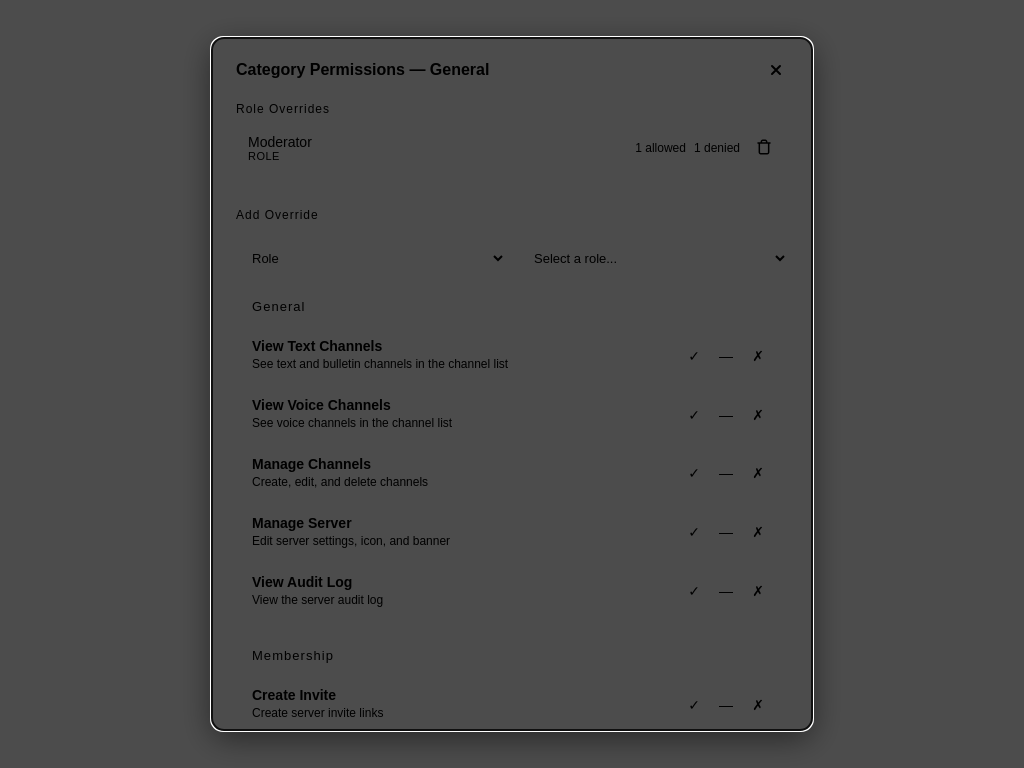
Test case: override upsert step-up through the category editor › edit: an ordinary refusal keeps the existing alert and no dialog
Click the button with class "override-item-select": [280, 142] box left=248, top=134, right=740, bottom=162
(page scrolled)
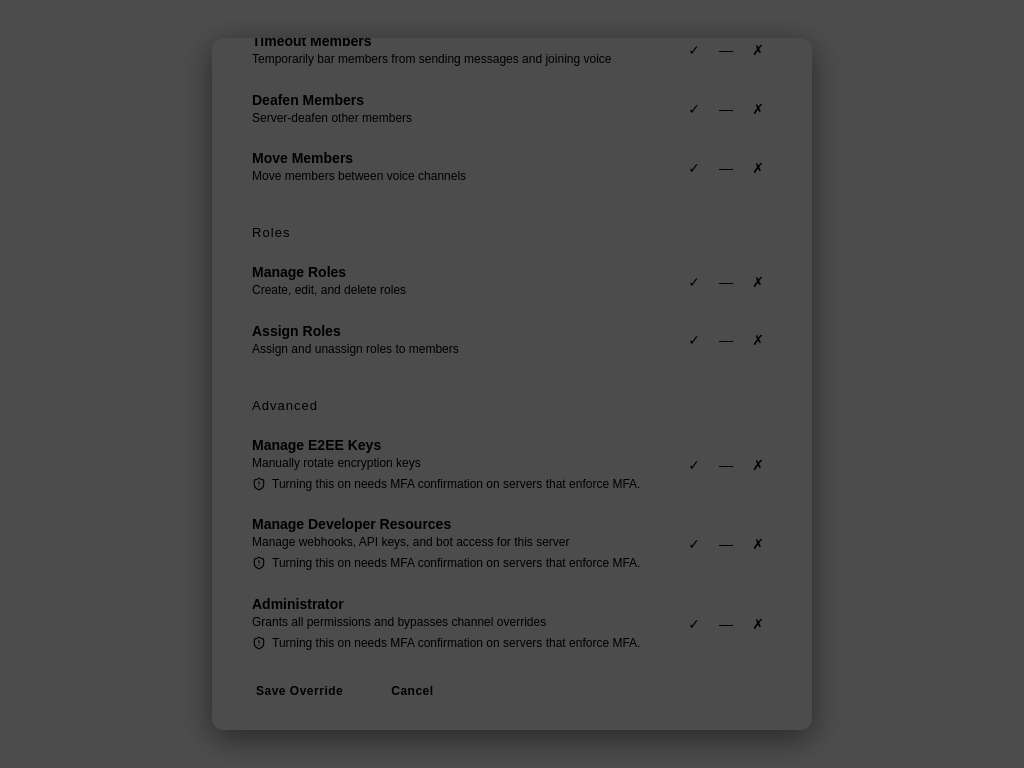
Click the button "Save Override": [300, 690] box left=236, top=676, right=363, bottom=706
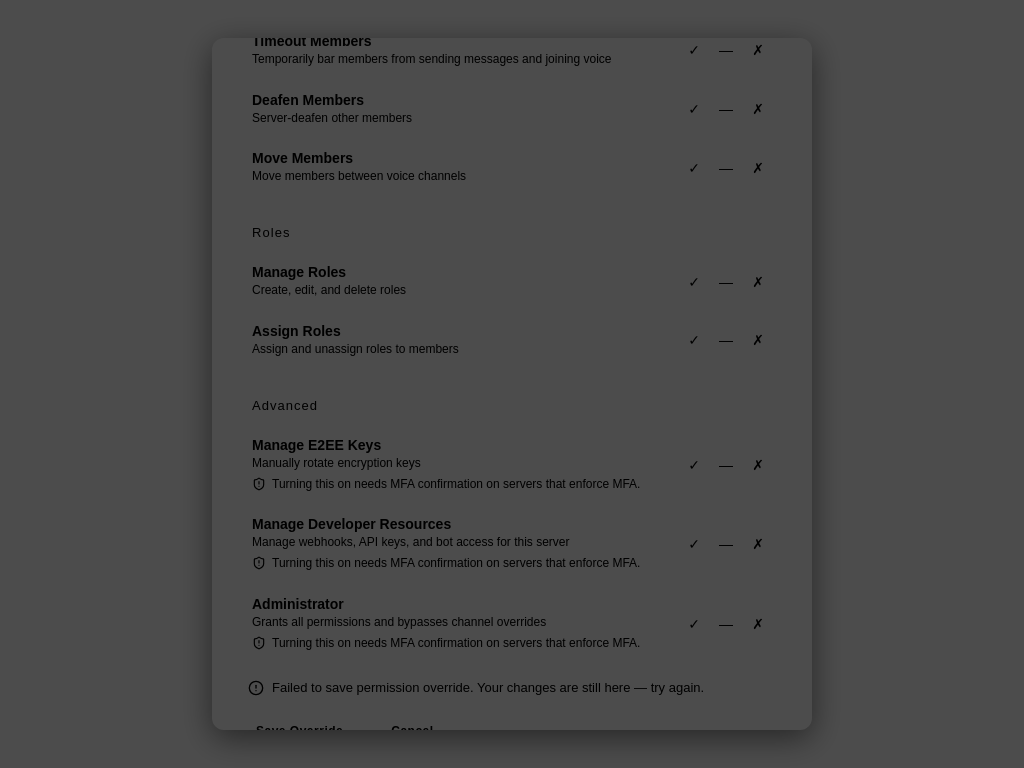
Check: the message shows "Failed to save permission override", box left=272, top=680, right=704, bottom=695
